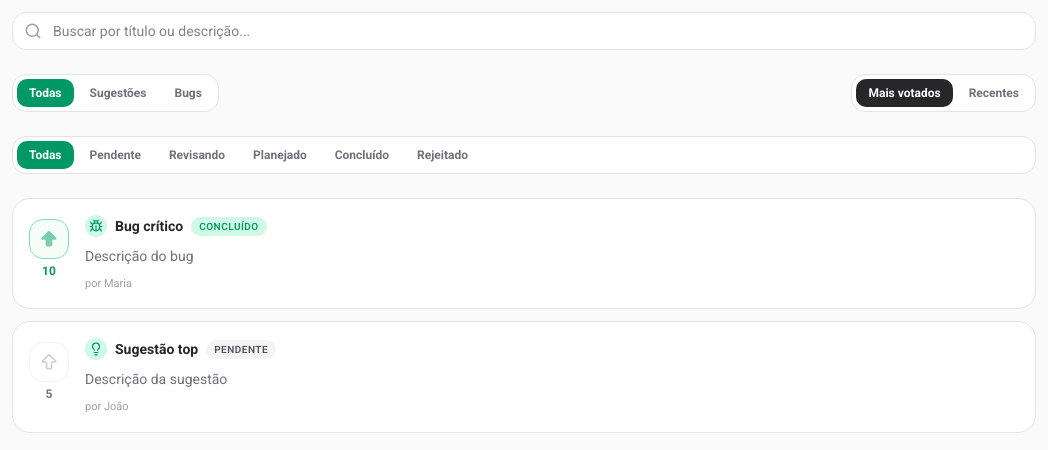
FeedbackList › deve filtrar por tipo "bug"
Click the button "Bugs" at (188, 93), box x1=162 y1=79 x2=214 y2=107
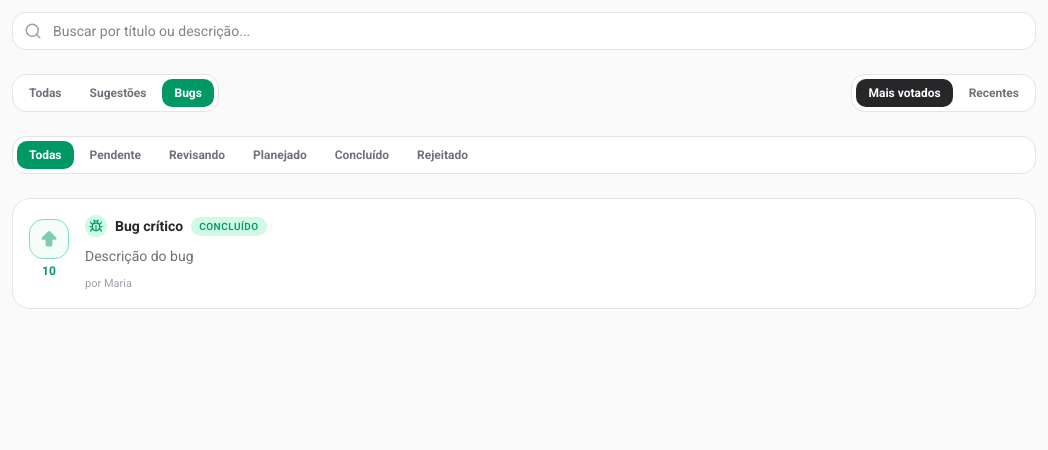
Expected: the heading "Bug crítico" is shown, x1=115 y1=216 x2=183 y2=236
Expected: the heading "Sugestão top" is gone
